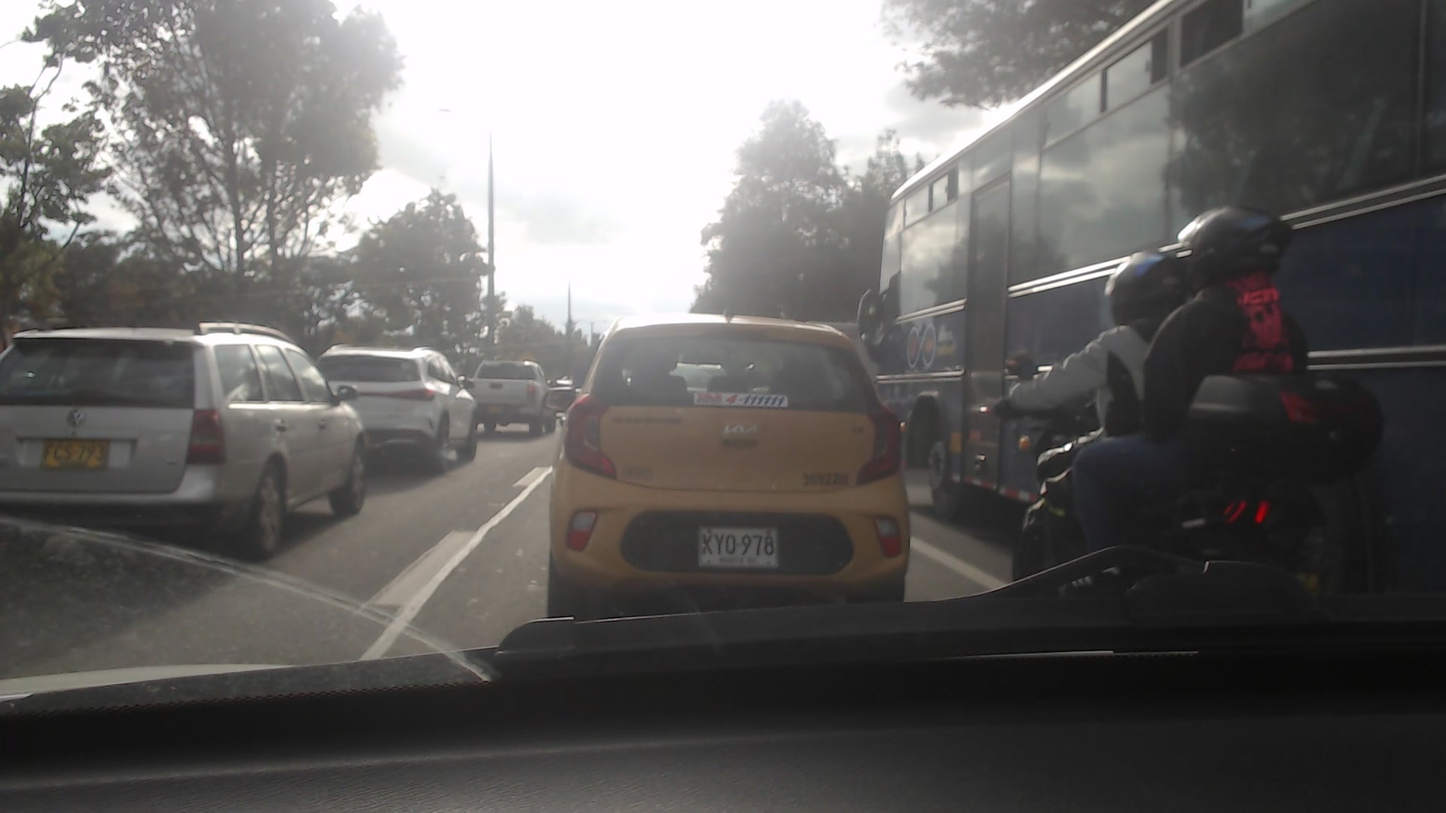bus: (872, 0, 1445, 621)
car: (551, 314, 913, 610), (0, 326, 368, 533), (305, 339, 480, 466), (464, 354, 554, 432)
motorcycle: (1012, 411, 1382, 629)
person: (1169, 213, 1333, 525), (1024, 253, 1179, 467)
